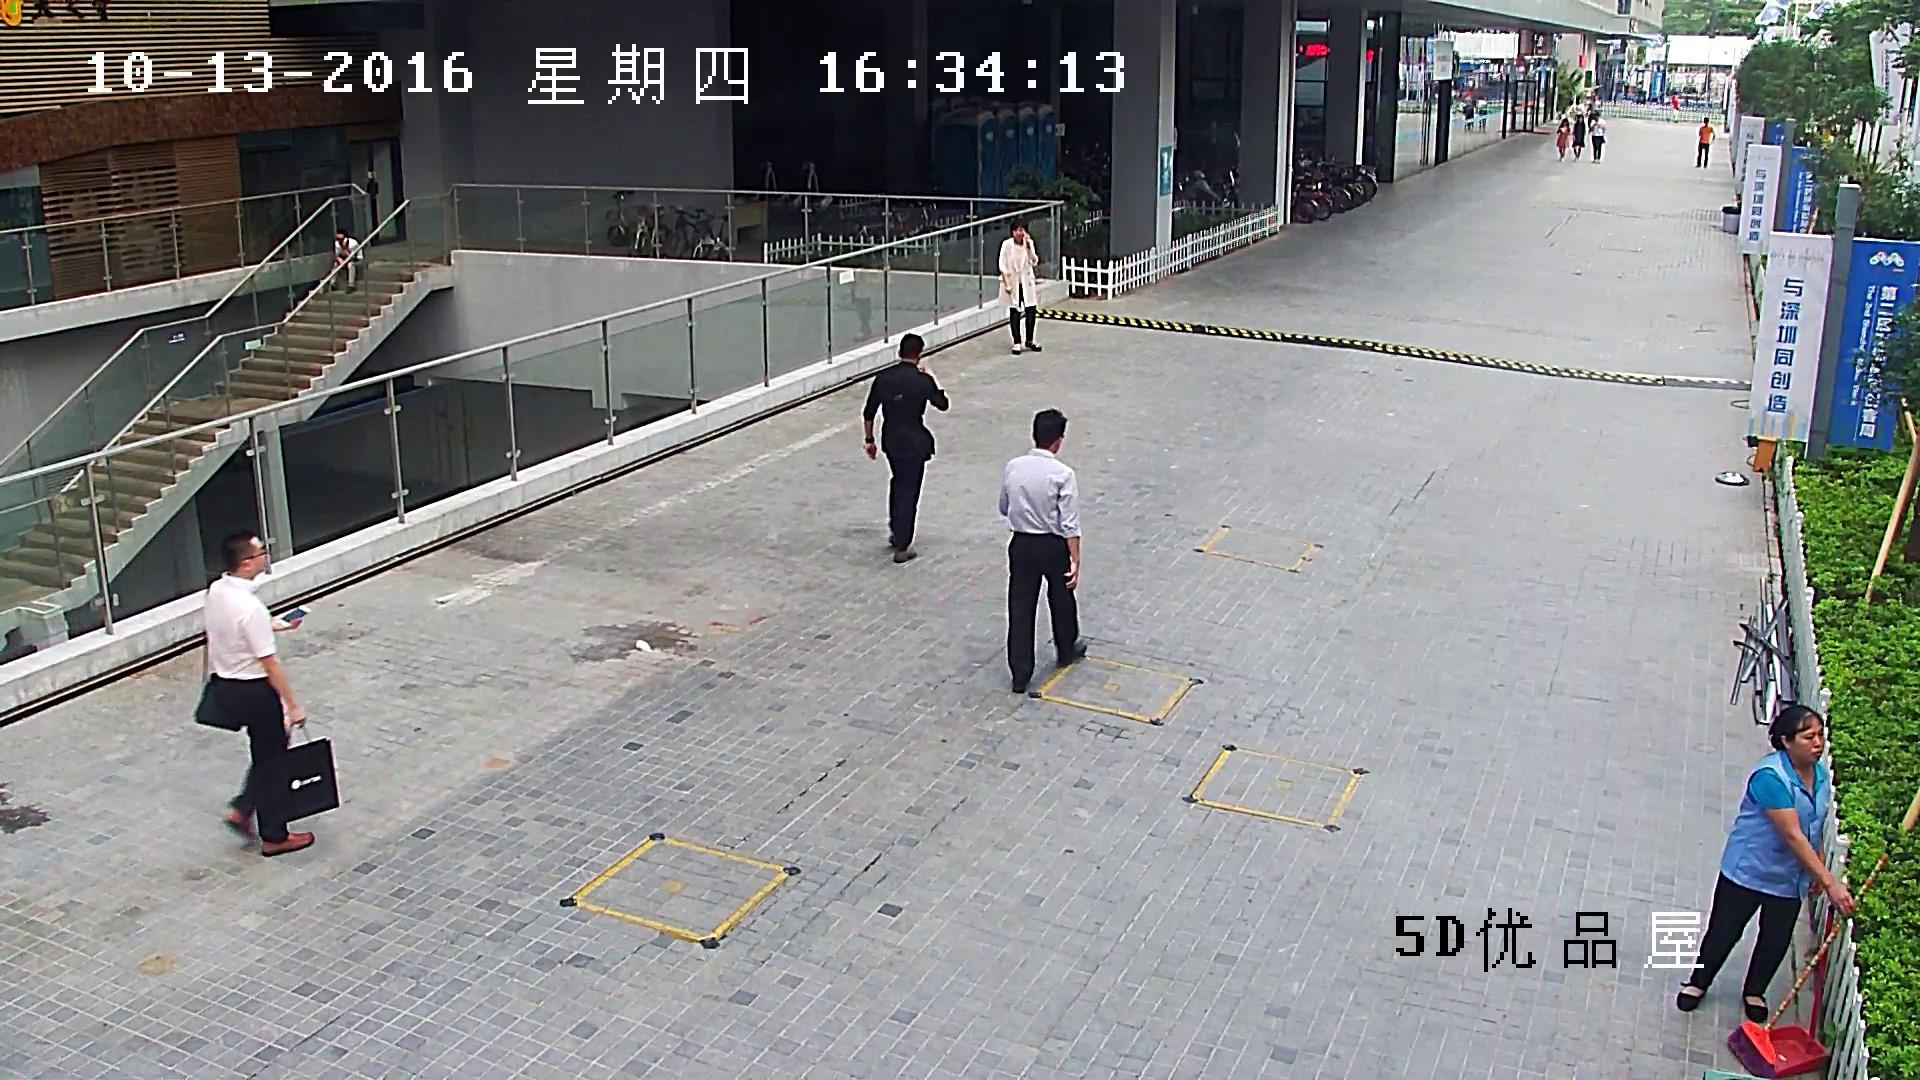person: (1683, 708, 1887, 1077), (1681, 706, 1853, 1015), (194, 530, 340, 855), (1000, 409, 1088, 692), (864, 333, 948, 563), (998, 222, 1042, 354), (331, 231, 363, 293), (1695, 116, 1715, 169), (1590, 113, 1606, 165), (1556, 118, 1569, 160), (1572, 115, 1584, 158), (1476, 94, 1489, 132), (1463, 95, 1475, 130), (1669, 91, 1681, 123)
